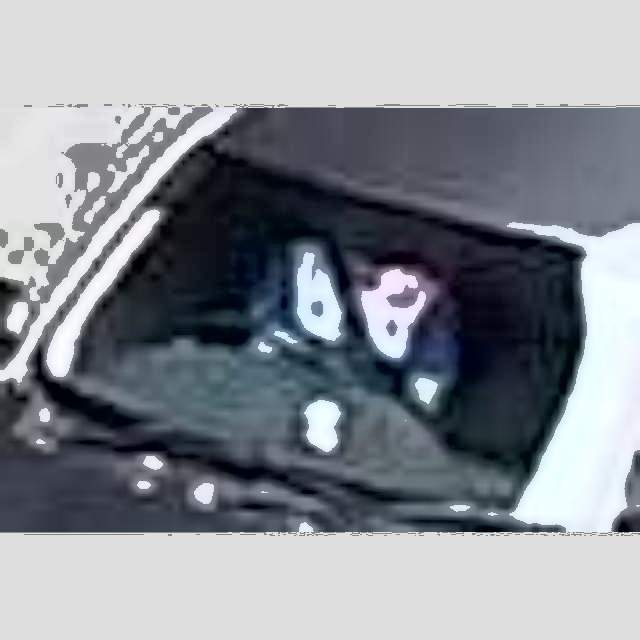pakai: (237, 237, 439, 424)
